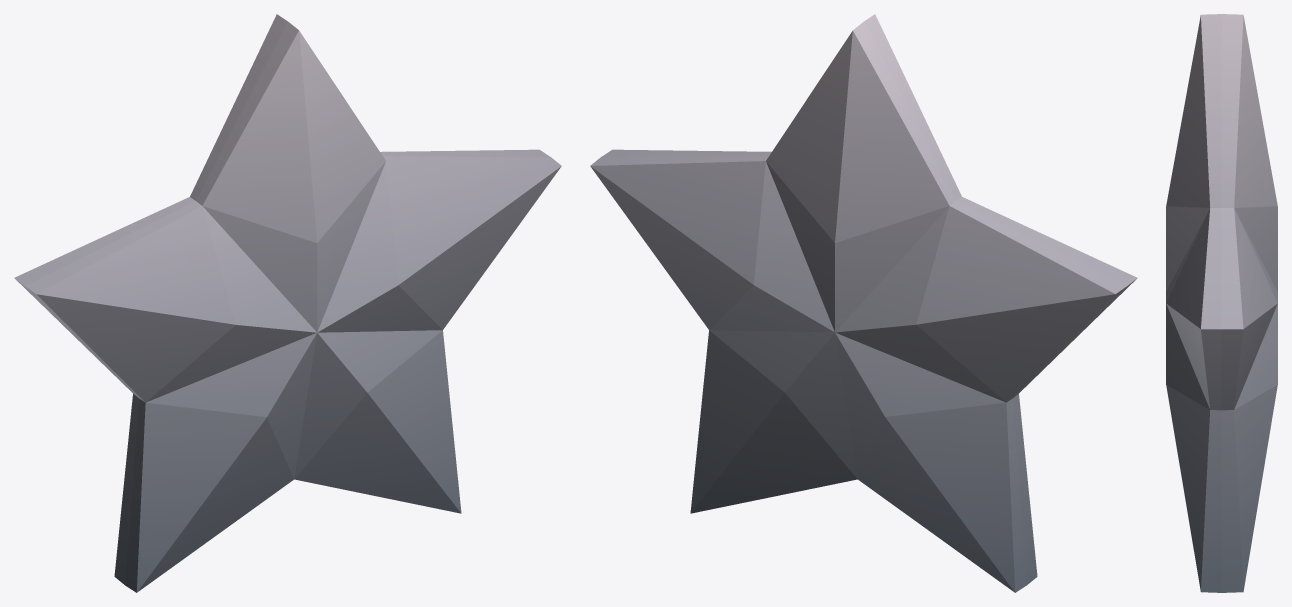
File: StarGem2.fbx
3 renders of one model, left to right at view 1: azimuth 30°, elevation 25°; view 2: azimuth 150°, elevation 25°; view 3: azimuth 270°, elevation 25°, orthographic. The views are drawn at different scales.
Parts seen in each view (by area): view 1: StarGem2; view 2: StarGem2; view 3: StarGem2.
Part boxes in pixels (x1,y1,x2,y2): StarGem2: (14, 14, 561, 592); StarGem2: (590, 14, 1137, 592); StarGem2: (1166, 14, 1277, 592).
Bounding box in the file's own units: 268 × 255 × 51.4.
